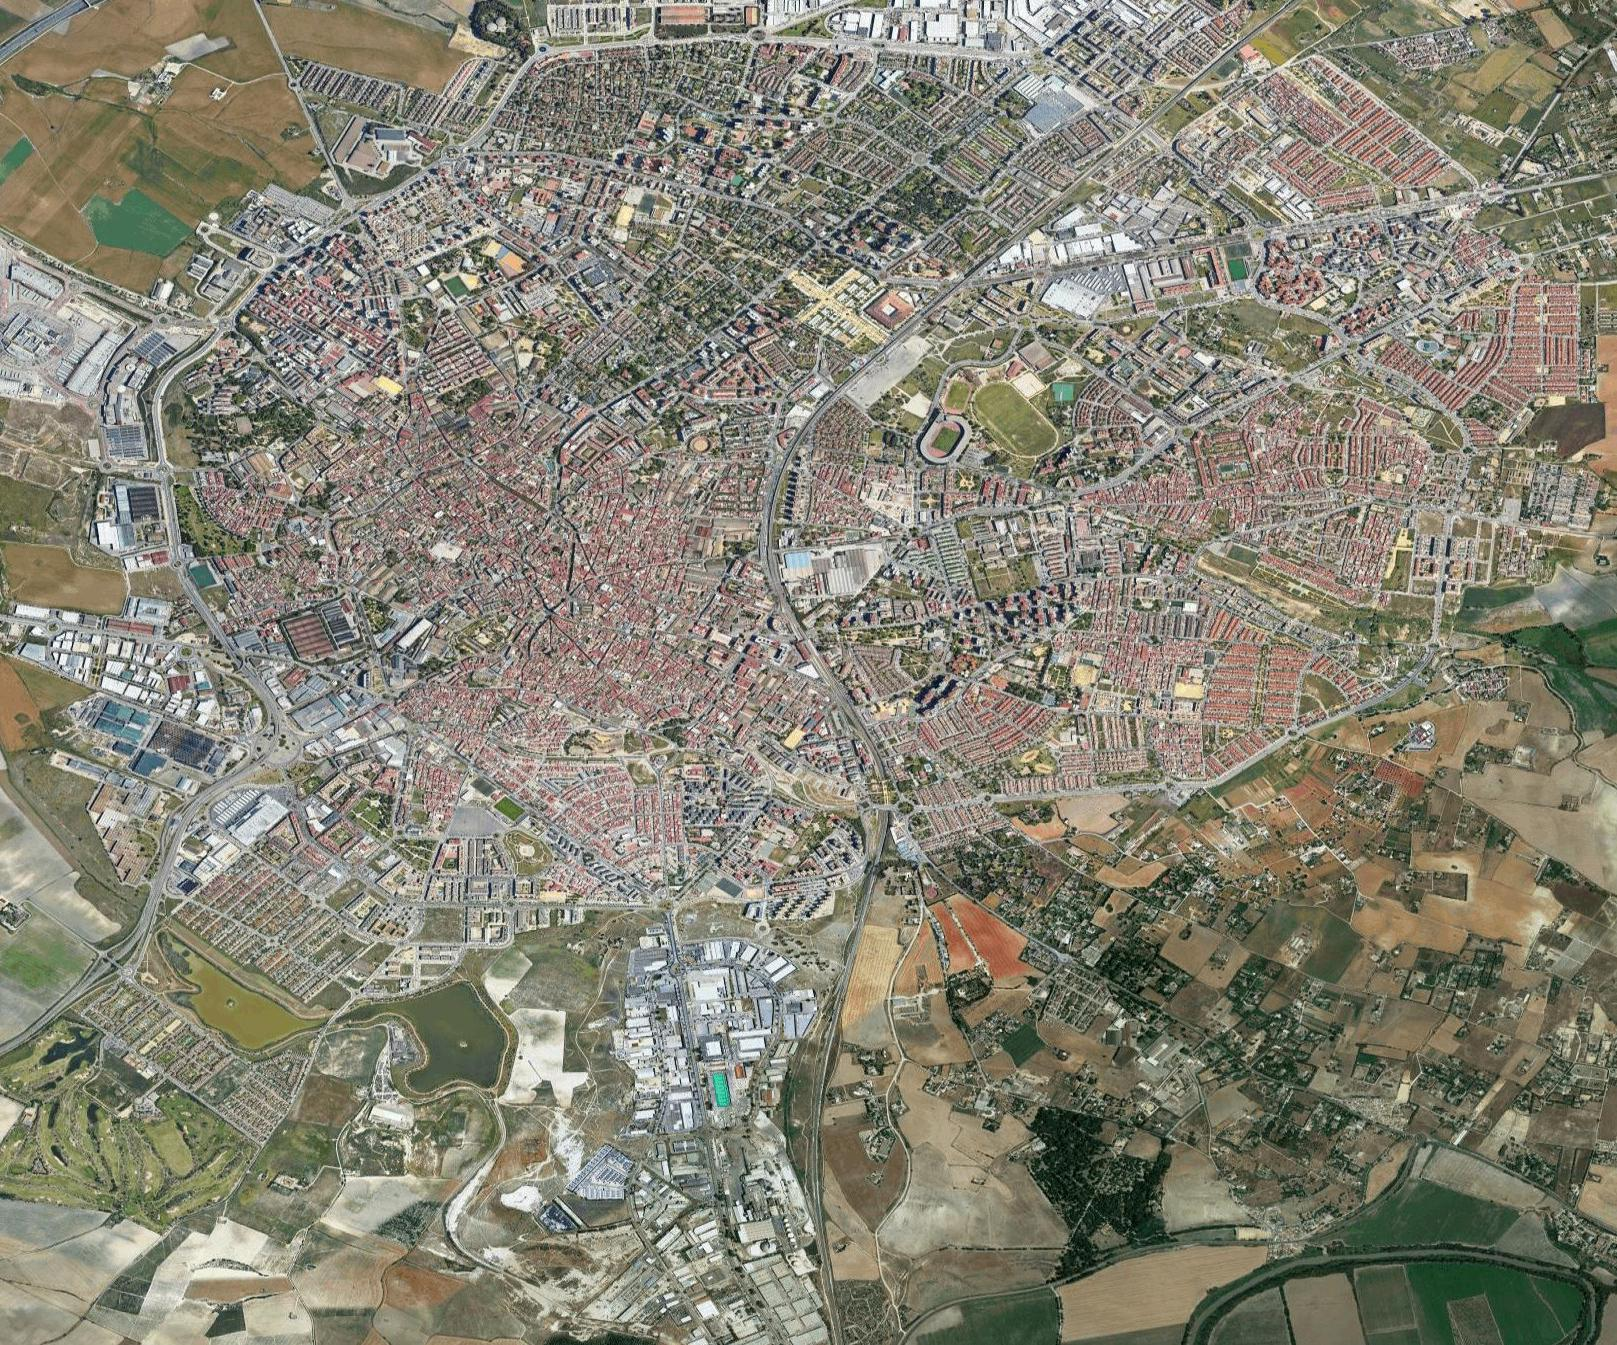industrial: (620, 920, 800, 1345), (1, 602, 216, 709)
motorway: (1, 980, 85, 1066), (71, 902, 154, 988), (144, 324, 220, 415), (1, 1, 90, 74), (197, 589, 254, 683), (149, 511, 205, 605), (181, 750, 259, 816), (140, 812, 189, 903), (251, 670, 290, 769), (146, 417, 184, 511)
train_station: (792, 632, 825, 666)
